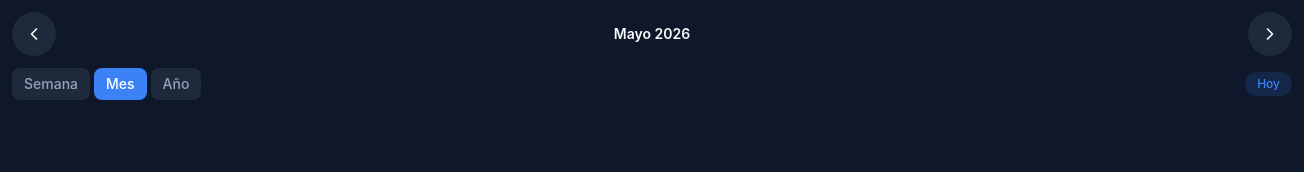
Test case: PeriodoNavegacion.svelte › navegación (AC-04, AC-05, AC-06, AC-07) › click en Siguiente avanza al periodo siguiente (AC-07)
The image size is (1304, 172).
Click the button named "Periodo siguiente" at (1270, 34), box [1248, 12, 1292, 56]
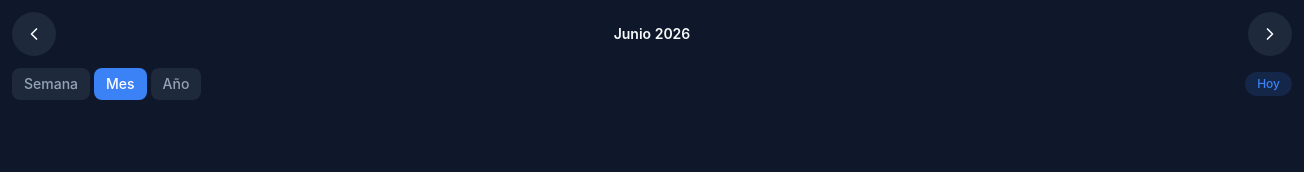
expect the button "Junio 2026" is shown: met, box [60, 16, 1244, 52]
